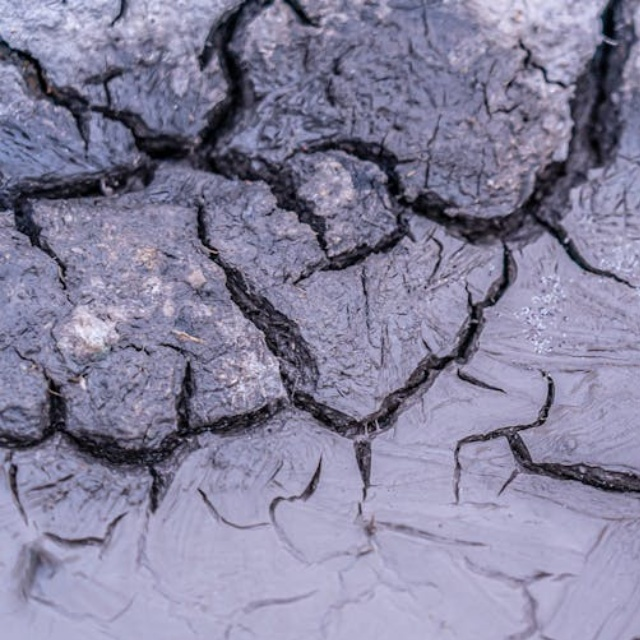网状裂隙: (78, 256, 640, 640)
